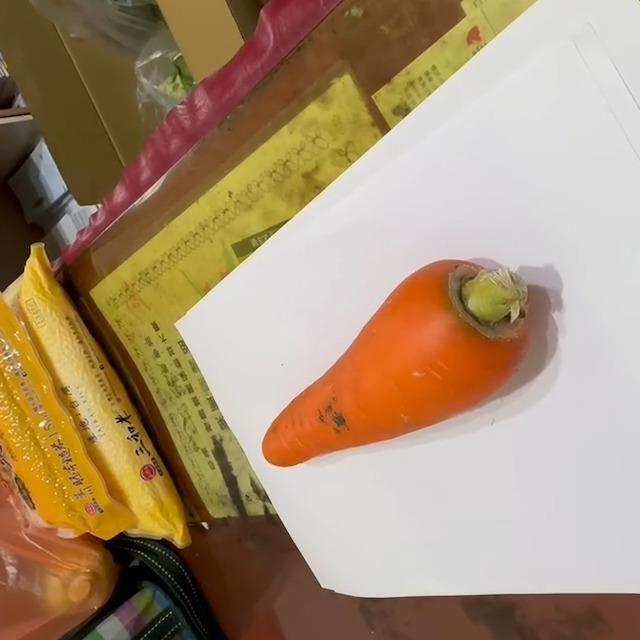carrot: (260, 258, 534, 470)
